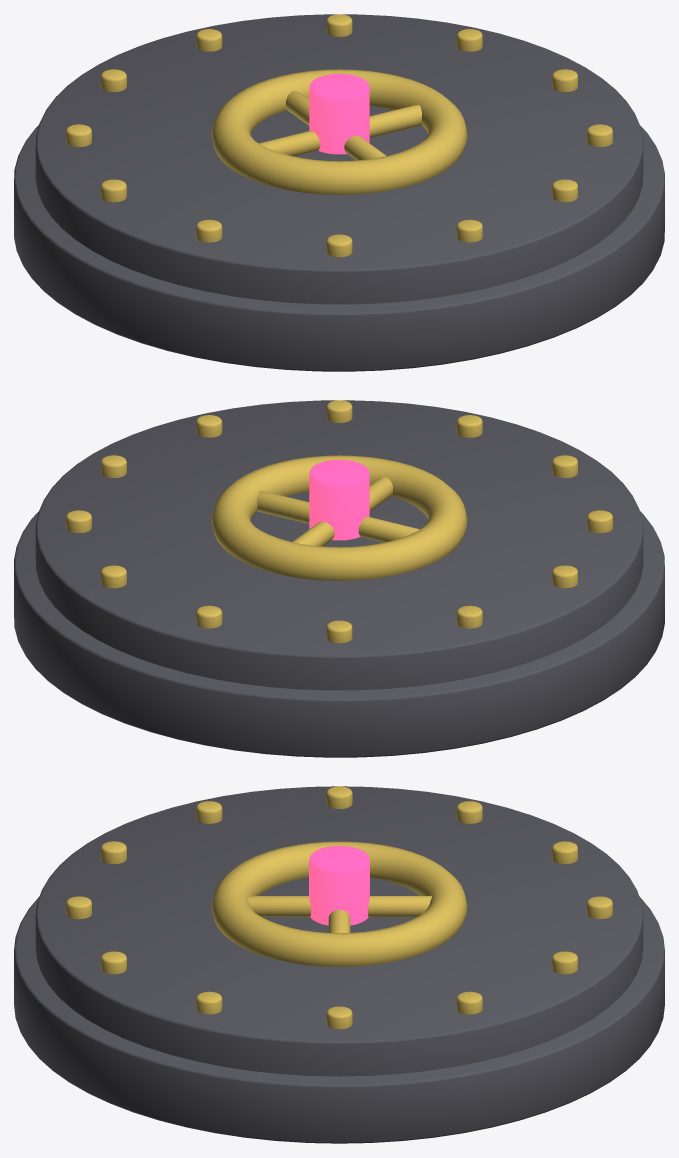
File: vault.glb
3 views of the same model, one above another, from view 1: azimuth 30°, elevation 25°; view 2: azimuth 150°, elevation 25°; view 3: azimuth 270°, elevation 25° (orthographic).
Parts seen in each view (by area): view 1: Cylinder, Cylinder.001, Torus, Cylinder.018, Cylinder.003, Cylinder.002, Cylinder.005, Cylinder.014, Cylinder.013, Cylinder.008, Cylinder.015, Cylinder.007 (+7 smaller); view 2: Cylinder, Cylinder.001, Torus, Cylinder.018, Cylinder.003, Cylinder.002, Cylinder.004, Cylinder.005, Cylinder.010, Cylinder.011, Cylinder.009, Cylinder.016 (+8 smaller); view 3: Cylinder, Cylinder.001, Torus, Cylinder.018, Cylinder.002, Cylinder.004, Cylinder.006, Cylinder.007, Cylinder.017, Cylinder.011, Cylinder.013, Cylinder.012 (+6 smaller).
Part boxes in pixels (<box>): Cylinder: <box>35,14,643,304</box>; Cylinder.001: <box>14,125,664,371</box>; Torus: <box>211,69,467,194</box>; Cylinder.018: <box>309,73,369,154</box>; Cylinder.003: <box>259,105,421,156</box>; Cylinder.002: <box>286,91,386,160</box>; Cylinder.005: <box>261,106,421,154</box>; Cylinder.014: <box>326,234,352,257</box>; Cylinder.013: <box>196,219,222,242</box>; Cylinder.008: <box>326,14,352,36</box>; Cylinder.015: <box>456,219,482,242</box>; Cylinder.007: <box>456,29,482,51</box>; Cylinder: <box>35,400,643,690</box>; Cylinder.001: <box>14,511,664,757</box>; Torus: <box>211,455,467,580</box>; Cylinder.018: <box>309,459,369,540</box>; Cylinder.003: <box>257,491,419,542</box>; Cylinder.002: <box>293,477,392,546</box>; Cylinder.004: <box>292,477,391,546</box>; Cylinder.005: <box>257,491,414,542</box>; Cylinder.010: <box>326,620,352,643</box>; Cylinder.011: <box>456,605,482,628</box>; Cylinder.009: <box>196,605,222,628</box>; Cylinder.016: <box>326,400,352,422</box>; Cylinder: <box>35,786,643,1076</box>; Cylinder.001: <box>14,896,664,1143</box>; Torus: <box>211,841,467,966</box>; Cylinder.018: <box>309,846,369,925</box>; Cylinder.002: <box>247,896,431,916</box>; Cylinder.004: <box>247,896,431,916</box>; Cylinder.006: <box>326,1006,352,1029</box>; Cylinder.007: <box>456,991,482,1014</box>; Cylinder.017: <box>196,991,222,1014</box>; Cylinder.011: <box>456,801,482,823</box>; Cylinder.013: <box>196,801,222,823</box>; Cylinder.012: <box>326,786,352,808</box>.
Bounding box in the file's own units: 3 × 0.76 × 3.
